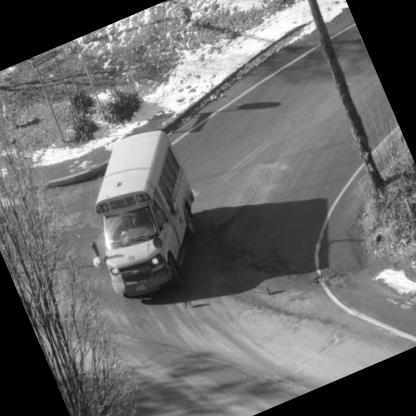bus: (45, 108, 238, 318)
